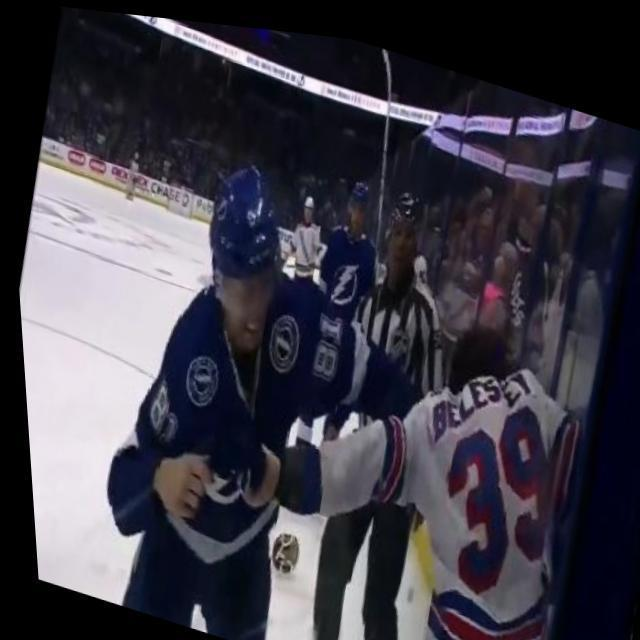fight: (56, 123, 476, 640), (180, 236, 608, 640)
